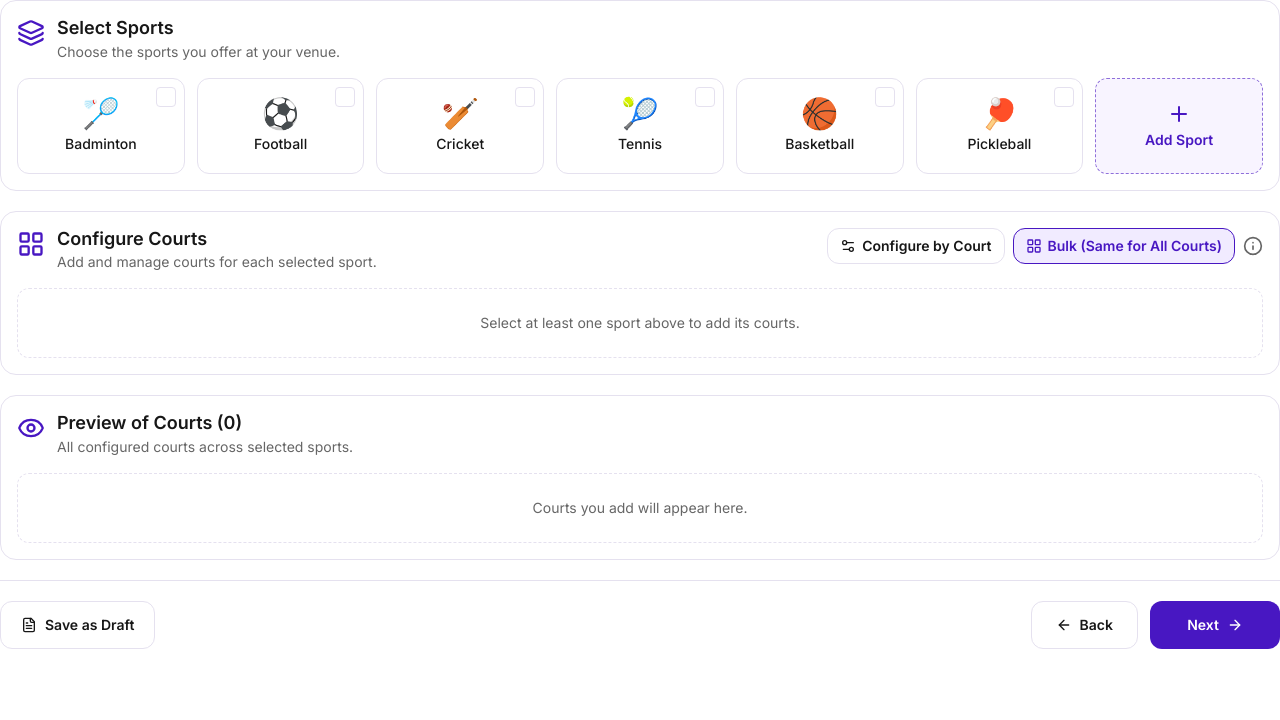
Scenario: SportsCourtsForm › starts empty for a multi-sport venue; ticking a sport adds its first court with the sport's usual settings
Check: the text "Select at least one sport above to add its courts." is shown, box [17, 288, 1263, 358]
Check: the heading "Preview of Courts (0)" is shown, box [57, 412, 242, 433]
Click the checkbox labelled "Badminton" at coordinates (101, 126), box [17, 78, 185, 174]
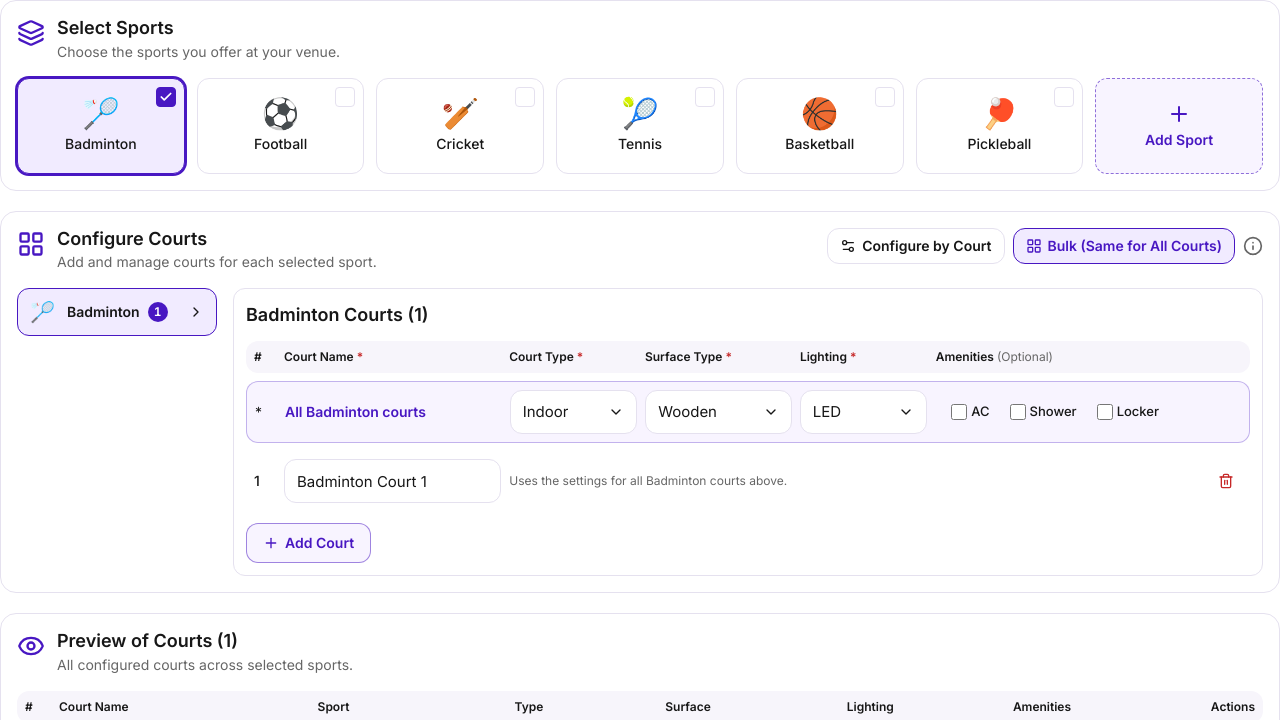
Check: the heading "Badminton Courts (1)" is shown, box [246, 304, 428, 325]
Check: the button with aria-label "Badminton (1)" is shown, box [17, 288, 217, 336]
Check: the field named "Court 1 name" holds "Badminton Court 1", box [284, 459, 501, 503]
